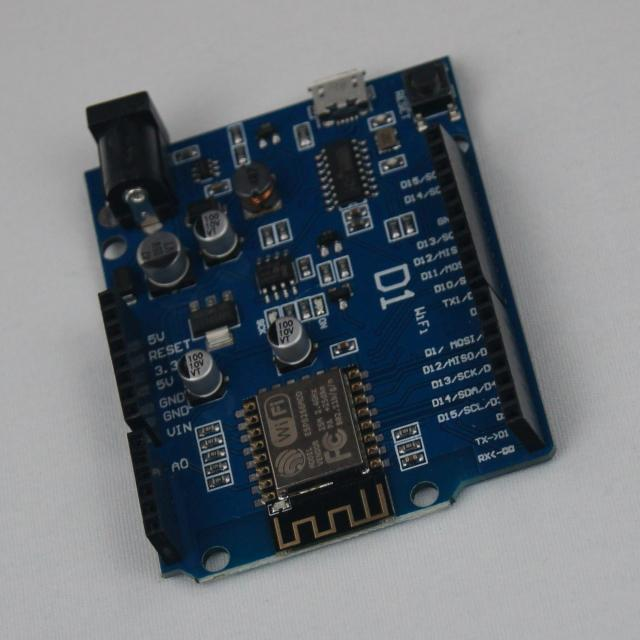Arduino Uno WiFi Shield: (86, 58, 554, 583)
